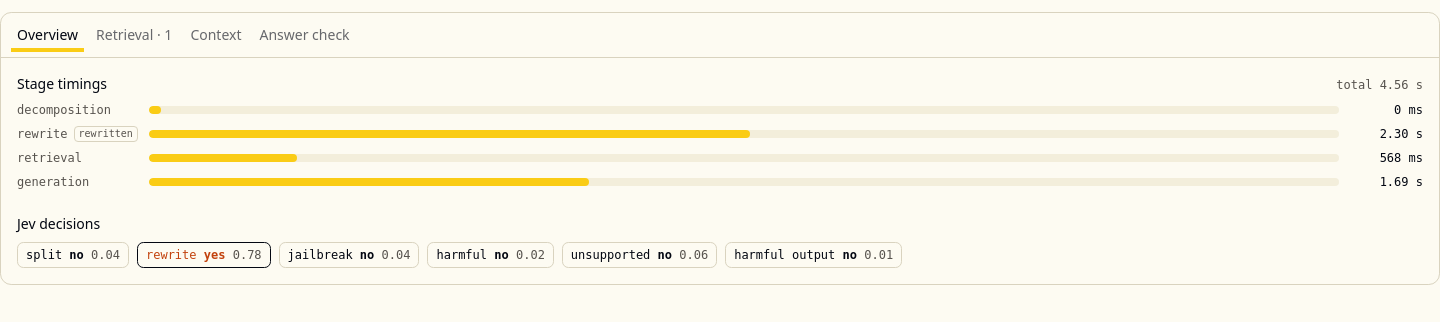
Scenario: transparency fields › an old trace without these fields keeps the previous views
The width and height of the screenshot is (1440, 322).
Click the tab "Retrieval · 1" at (134, 35), box [89, 22, 179, 48]
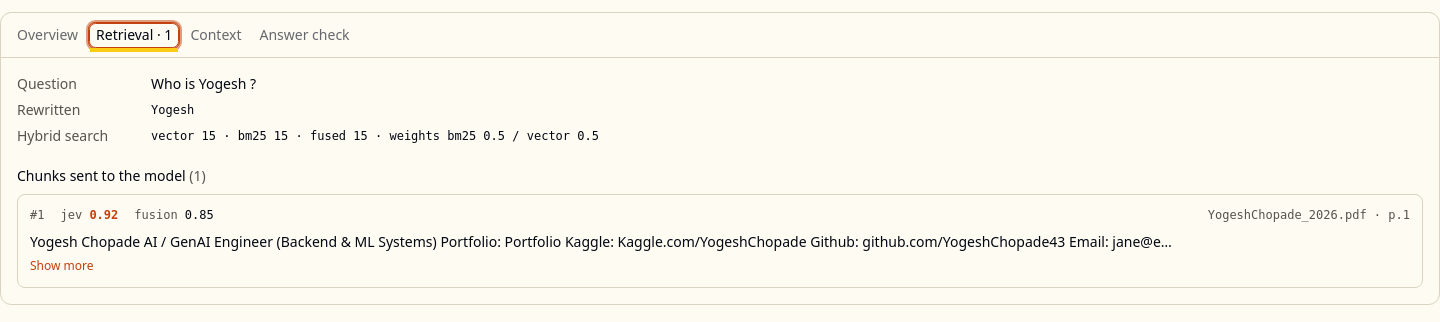
Now the heading "Chunks sent to the model (1)" is shown, box [17, 166, 206, 185]
